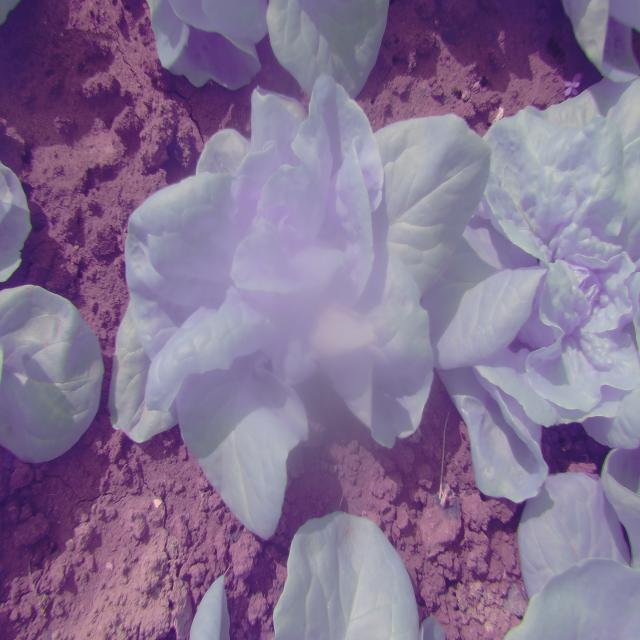vege: (108, 84, 489, 525)
